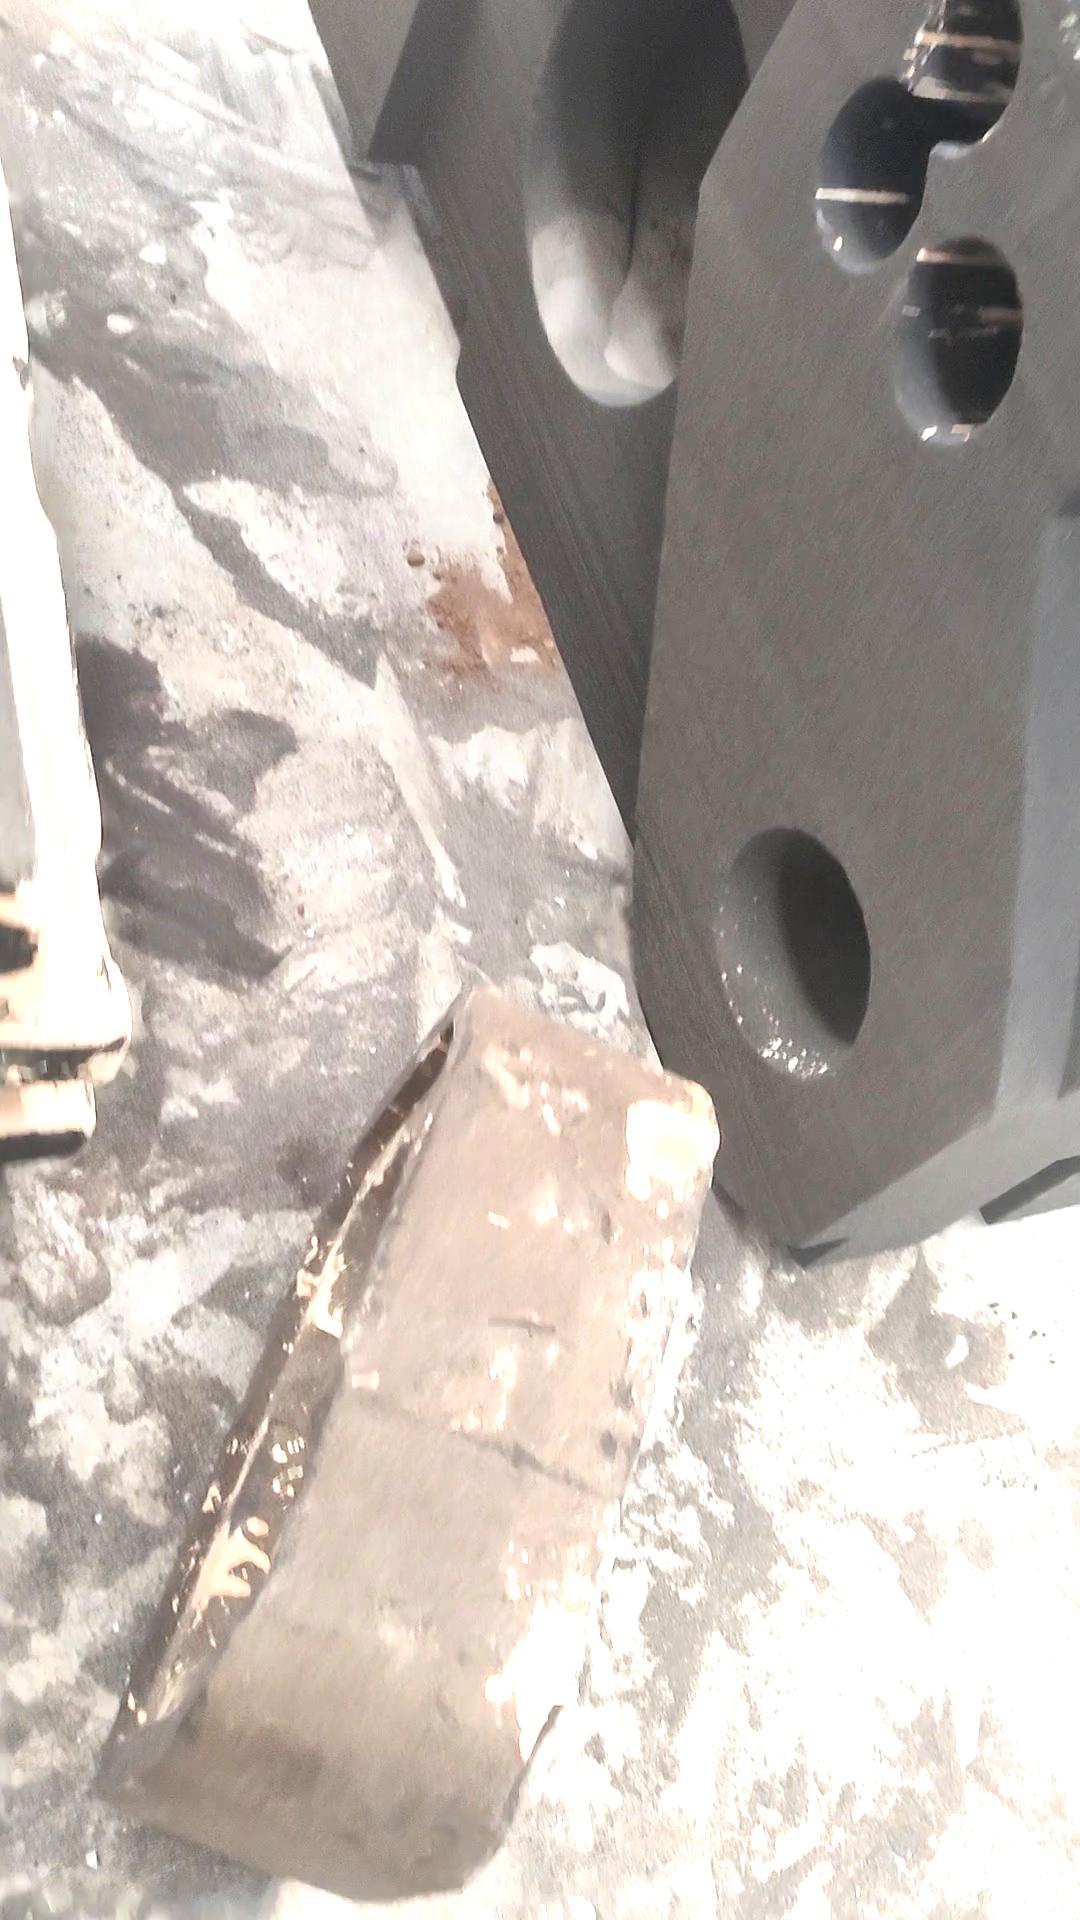pouring hole: (715, 825, 874, 1077)
